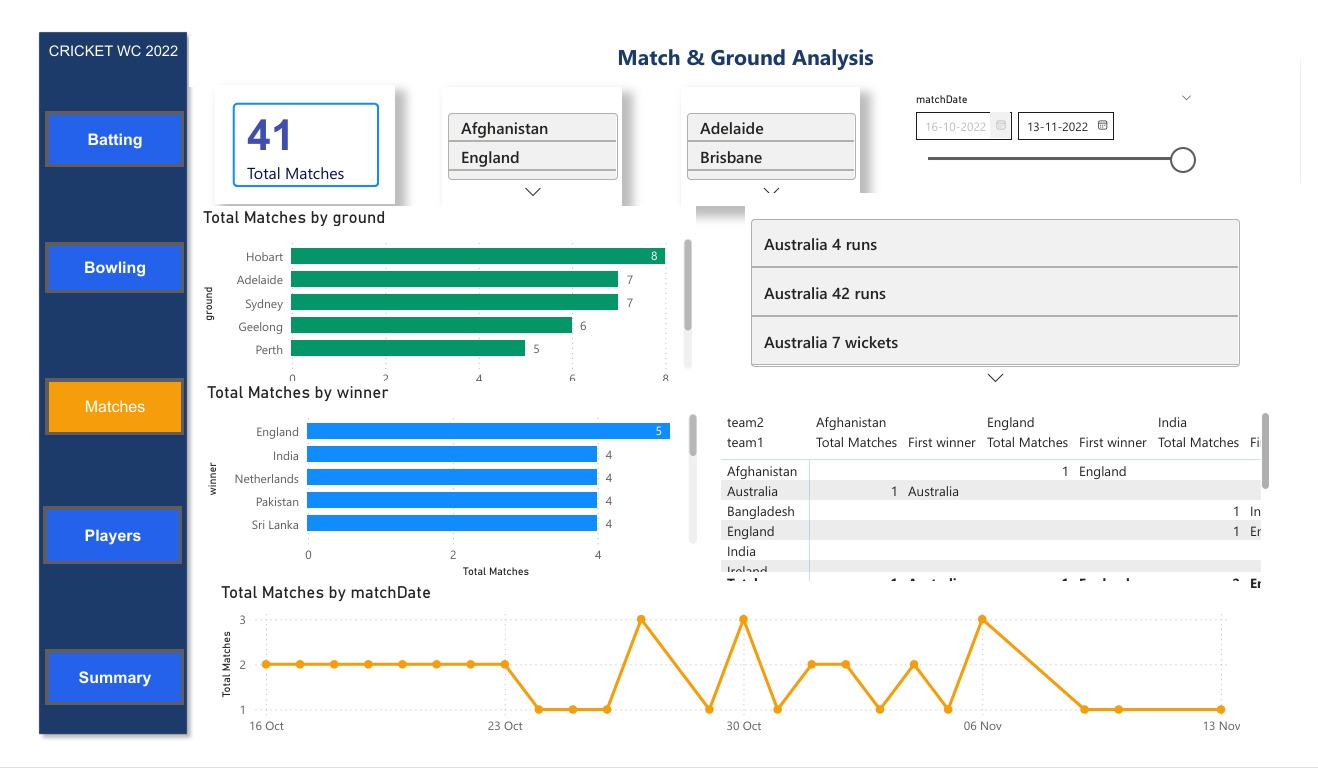

The dashboard page shown, as its layout file describes it:
{"tool":"powerbi","page":{"name":"Matches Page","canvas":[1280,720],"ordinal":2},"visuals":[{"type":"shape","box":[15.9,0,165.7,720],"z":0},{"type":"textbox","box":[15.9,14.3,152.9,36.6],"z":1000},{"type":"textbox","box":[169,13.8,1110.8,50.7],"z":2000},{"type":"cardVisual","title":"Total Matches","fields":{"Data":["Matches.Total Matches"]},"box":[195,63.3,180,118.3],"z":3000},{"type":"cardVisual","fields":{"Rows":["Matches.team2"]},"box":[422.5,64.5,179.7,119.8],"z":4000},{"type":"cardVisual","fields":{"Rows":["Matches.ground"]},"box":[660.6,64.5,179.7,119.8],"z":5000},{"type":"clusteredBarChart","fields":{"Category":["Matches.ground"],"Y":["Matches.Total Matches"]},"box":[176.7,184.4,499.3,199.7],"z":6000},{"type":"barChart","fields":{"Category":["Matches.winner"],"Y":["Matches.Total Matches"]},"box":[181.3,359.5,500,200],"z":7000},{"type":"pivotTable","fields":{"Rows":["Matches.team1"],"Columns":["Matches.team2"],"Values":["Matches.Total Matches","Min(Matches.winner)"]},"box":[695.9,384.1,557.7,199.7],"z":8000},{"type":"slicer","fields":{"Values":["Matches.matchDate"]},"box":[881.8,64.5,301.1,119.8],"z":9000},{"type":"lineChart","fields":{"Y":["Matches.Total Matches"],"Category":["Matches.matchDate"]},"box":[195.1,559.2,1029.3,161.3],"z":10000},{"type":"cardVisual","fields":{"Rows":["Matches.winner","Matches.margin"]},"box":[725.1,170.5,499.3,199.7],"z":11000},{"type":"actionButton","box":[24.6,89.1,138.3,55.3],"z":12000},{"type":"actionButton","box":[24.6,219.7,138.3,50.7],"z":13000},{"type":"actionButton","box":[24.6,356.4,138.3,55.3],"z":14000},{"type":"actionButton","box":[23,483.9,138.3,56.8],"z":15000},{"type":"actionButton","box":[24.6,626.8,138.3,55.3],"z":16000}]}

Visuals, with their boxes on the page's 1280x720 design canvas (x1, y1, x2, y2). These are canvas units, not pixel positions in the 1318x768 screenshot, which may show the page scaled, cropped or inside an application window:
shape: [x1=16, y1=0, x2=182, y2=720]
textbox: [x1=16, y1=14, x2=169, y2=51]
textbox: [x1=169, y1=14, x2=1280, y2=64]
"Total Matches" cardVisual: [x1=195, y1=63, x2=375, y2=182]
cardVisual - Matches.team2: [x1=422, y1=64, x2=602, y2=184]
cardVisual - Matches.ground: [x1=661, y1=64, x2=840, y2=184]
clusteredBarChart - Matches.ground x Matches.Total Matches: [x1=177, y1=184, x2=676, y2=384]
barChart - Matches.winner x Matches.Total Matches: [x1=181, y1=360, x2=681, y2=560]
pivotTable - Matches.team1 x Matches.team2: [x1=696, y1=384, x2=1254, y2=584]
slicer - Matches.matchDate: [x1=882, y1=64, x2=1183, y2=184]
lineChart - Matches.Total Matches x Matches.matchDate: [x1=195, y1=559, x2=1224, y2=720]
cardVisual - Matches.winner x Matches.margin: [x1=725, y1=170, x2=1224, y2=370]
actionButton: [x1=25, y1=89, x2=163, y2=144]
actionButton: [x1=25, y1=220, x2=163, y2=270]
actionButton: [x1=25, y1=356, x2=163, y2=412]
actionButton: [x1=23, y1=484, x2=161, y2=541]
actionButton: [x1=25, y1=627, x2=163, y2=682]
